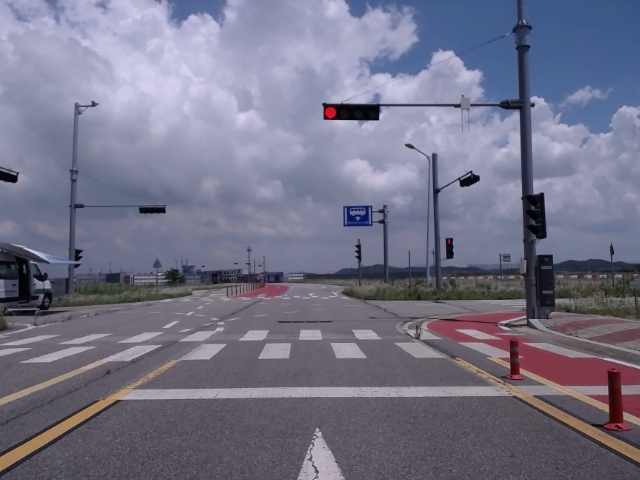red_4: (324, 106, 379, 121)
